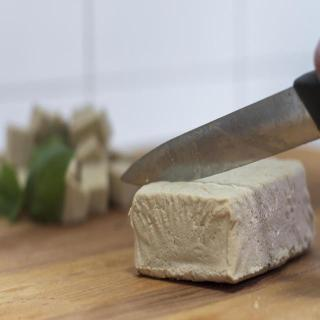Tahu: (95, 130, 320, 314)
